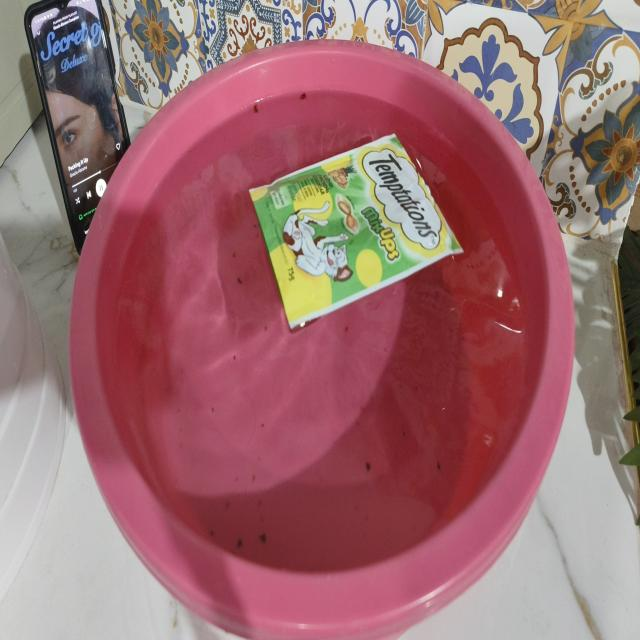Plastic Wrapper: (249, 134, 463, 329)
